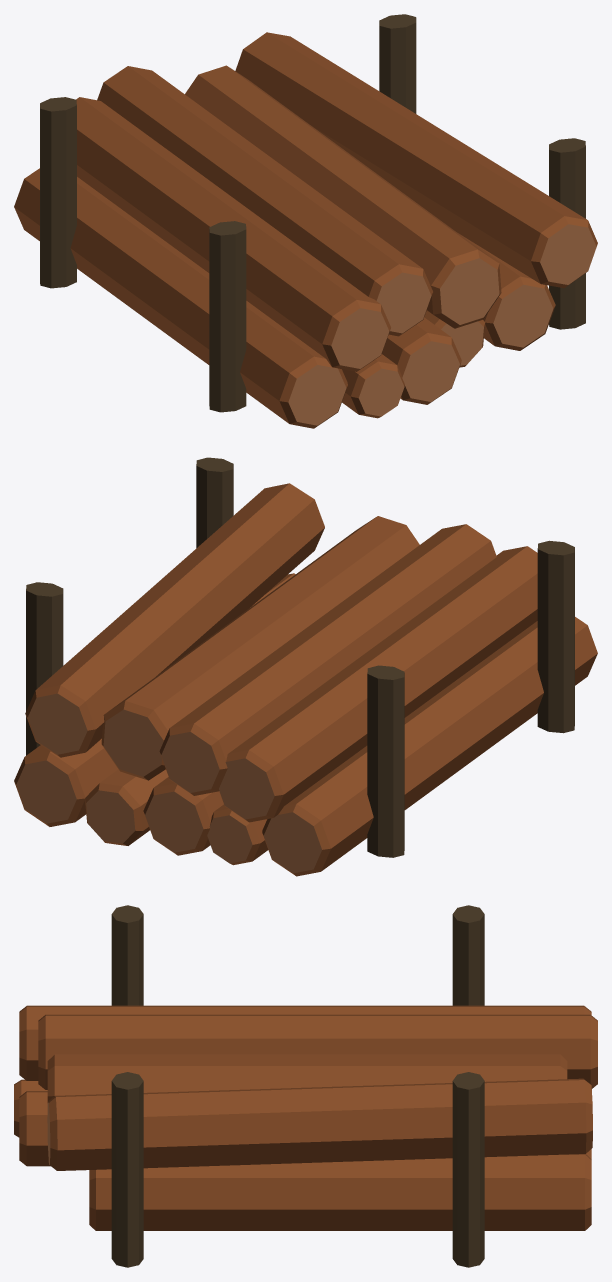
Rendered from FireWoodStack_1.fbx.
3 renders of one model, top to bottom at view 1: azimuth 30°, elevation 25°; view 2: azimuth 150°, elevation 25°; view 3: azimuth 270°, elevation 25°, orthographic.
Visible parts, largest first — view 1: FireWoodStack_1; view 2: FireWoodStack_1; view 3: FireWoodStack_1.
Part boxes in pixels (x1,y1,x2,y2): FireWoodStack_1: [14, 14, 597, 428]; FireWoodStack_1: [14, 457, 597, 876]; FireWoodStack_1: [14, 905, 597, 1267].
Size of the model in its own units: 248 by 114 by 332.
